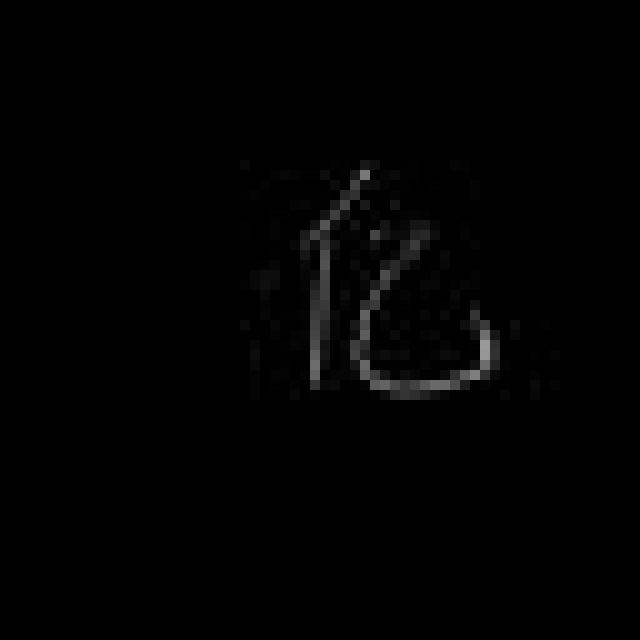100000 -a hundred thousand-: (280, 159, 502, 404)
